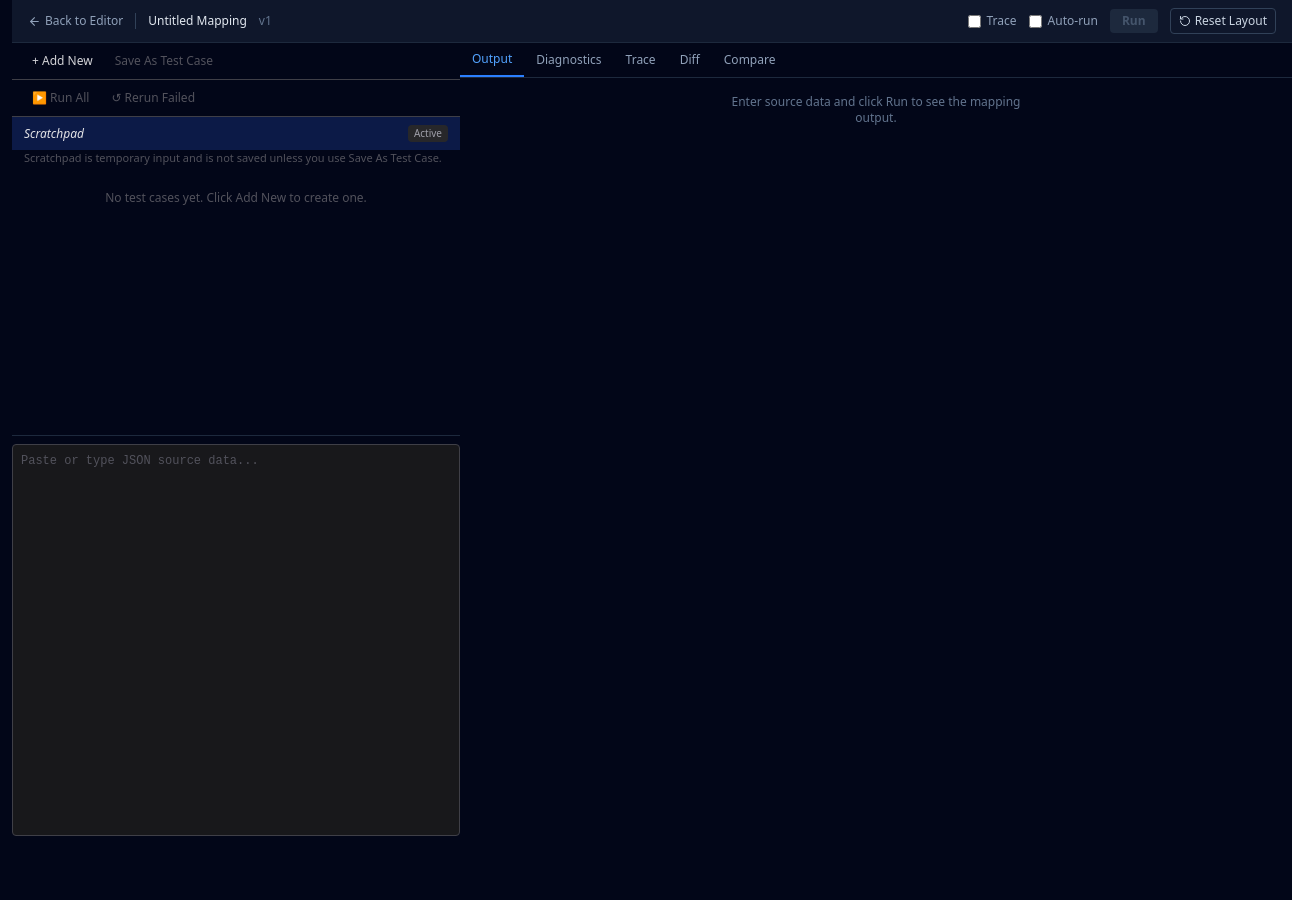
Scenario: TestLabPage › Compare tab (narrow viewport) › clicking Compare tab switches to comparison view
Click the tab with test id "tab-compare": [750, 60] box [712,43,788,77]
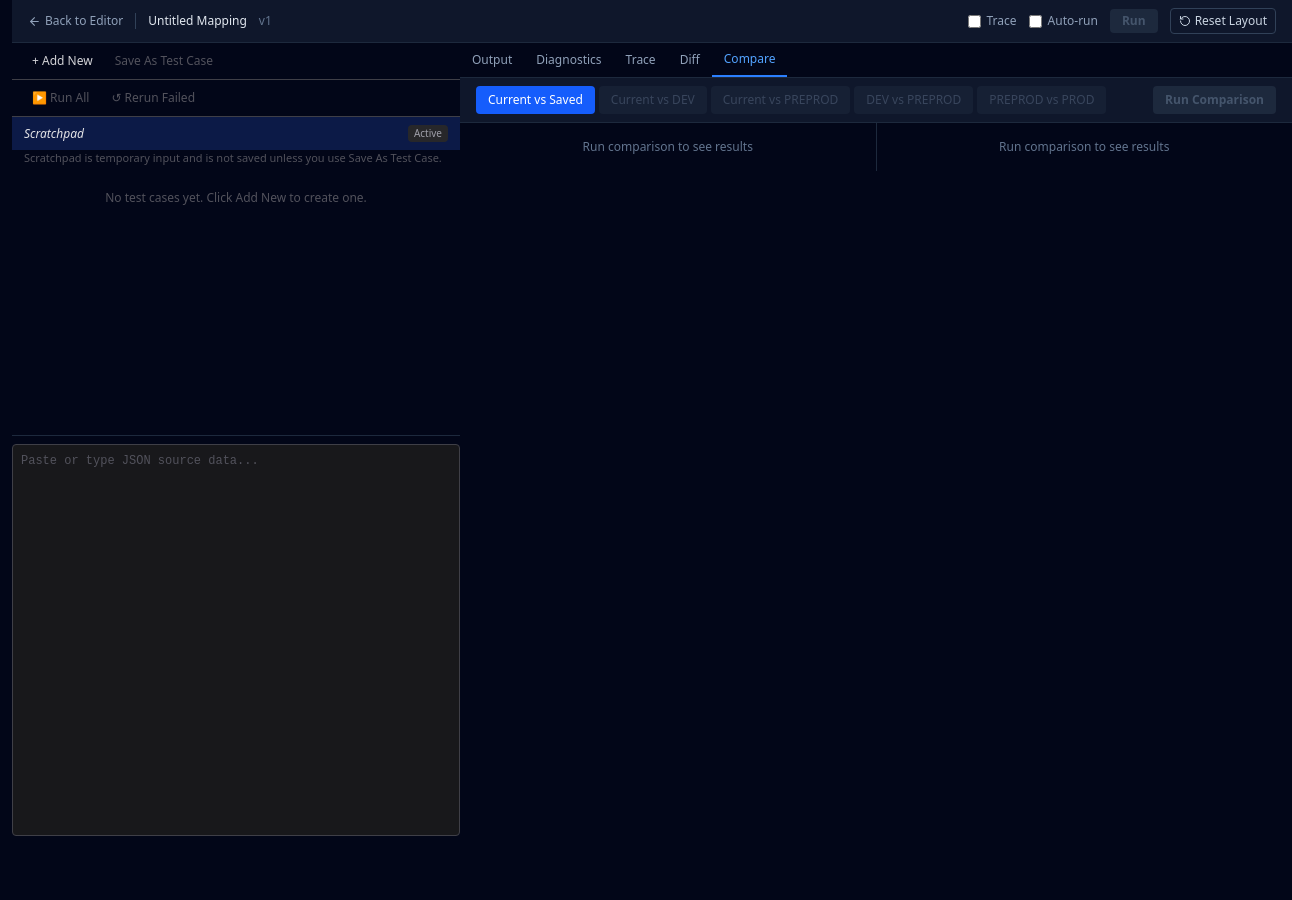
Expected: the element with test id "compare-tab" is shown, [460,78,1291,171]
